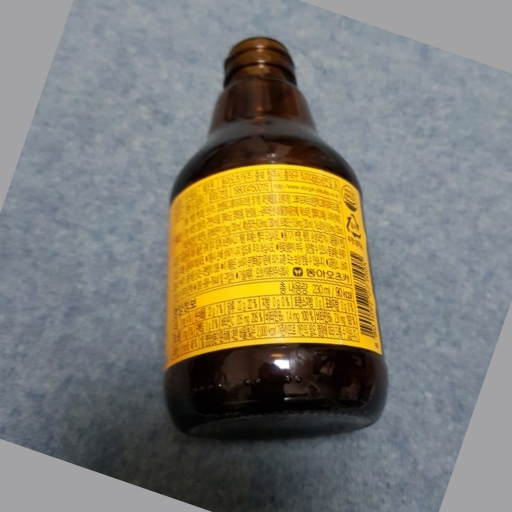Glass_3: (155, 36, 389, 448)
